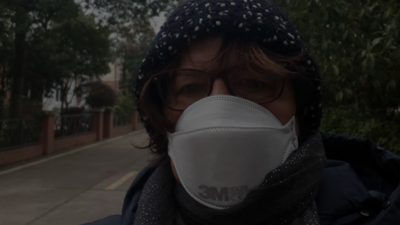with_mask: (161, 54, 298, 210)
